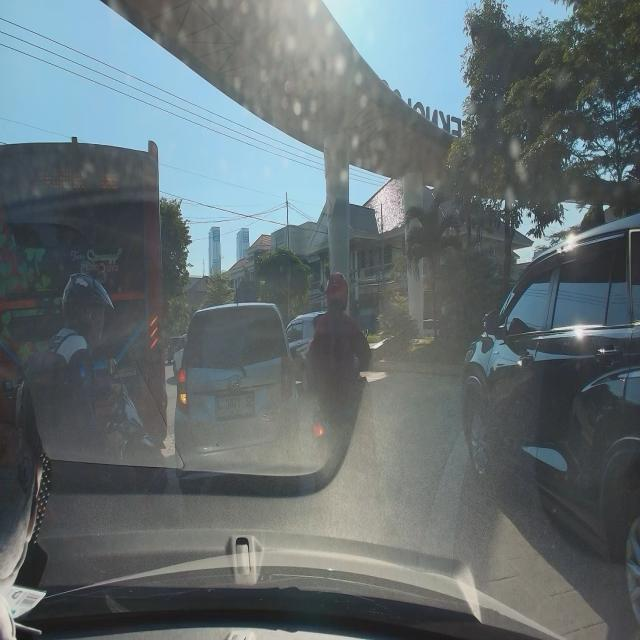bus: (0, 132, 168, 479)
car: (461, 211, 640, 611), (173, 296, 299, 489)
license-plate: (215, 392, 254, 416)
